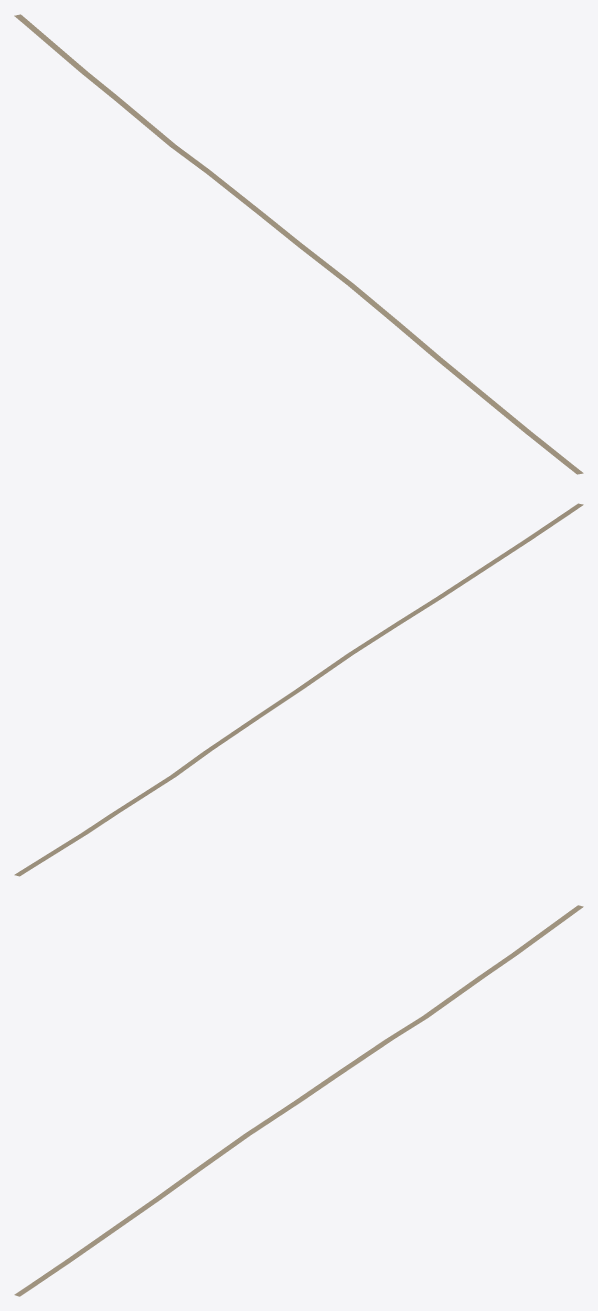
The model's file is farm_24_14_track.glb.
3 renders of one model, top to bottom at view 1: azimuth 30°, elevation 25°; view 2: azimuth 150°, elevation 25°; view 3: azimuth 330°, elevation 25°, orthographic. The views are drawn at different scales.
Visible parts, largest first — view 1: geometry_0; view 2: geometry_0; view 3: geometry_0.
Boxes of the visible parts, x1,y1,x2,y2 form: geometry_0: (14, 14, 583, 474); geometry_0: (14, 503, 583, 876); geometry_0: (14, 905, 583, 1296).
Bounding box in the file's own units: 21.49 × 4.95 × 508.
